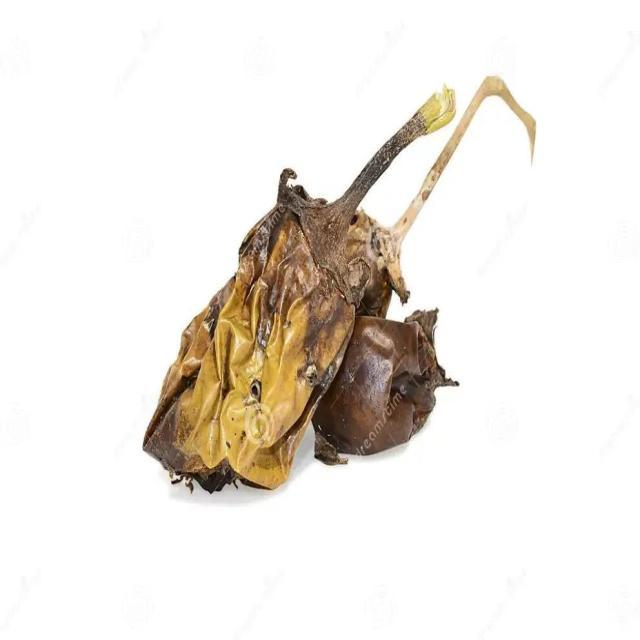eggplant: (143, 85, 455, 494)
